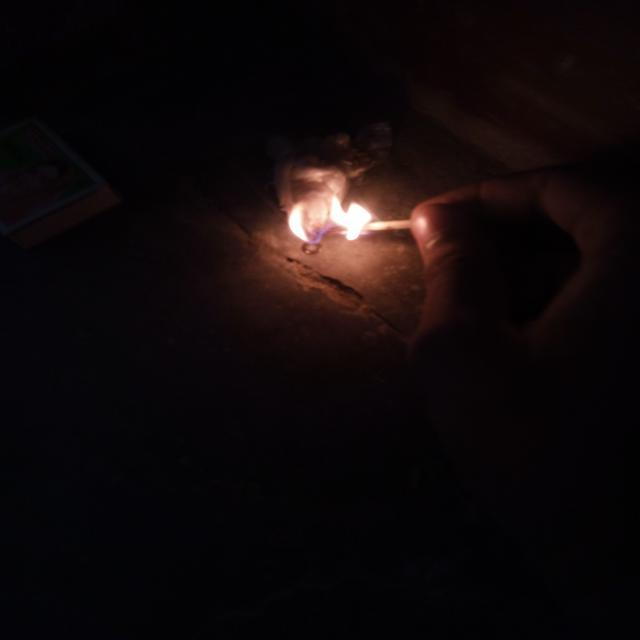Fire: (276, 162, 391, 250)
